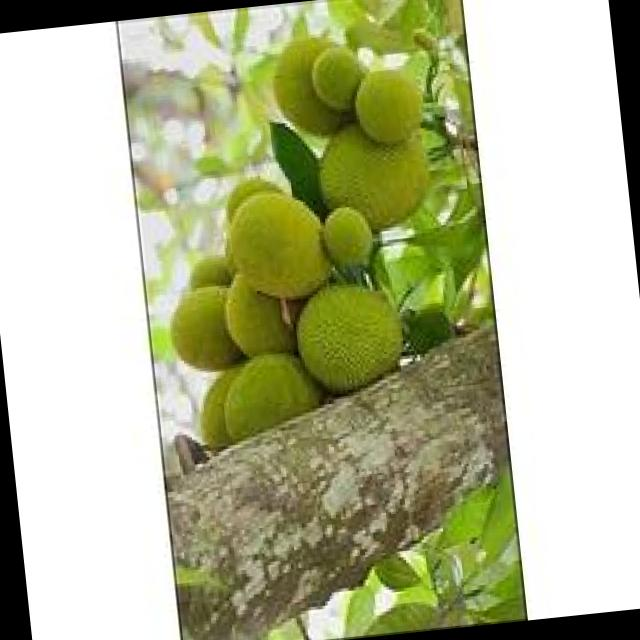Fruit: (280, 268, 420, 400)
